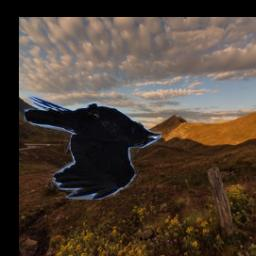Crow: (24, 94, 162, 200)
